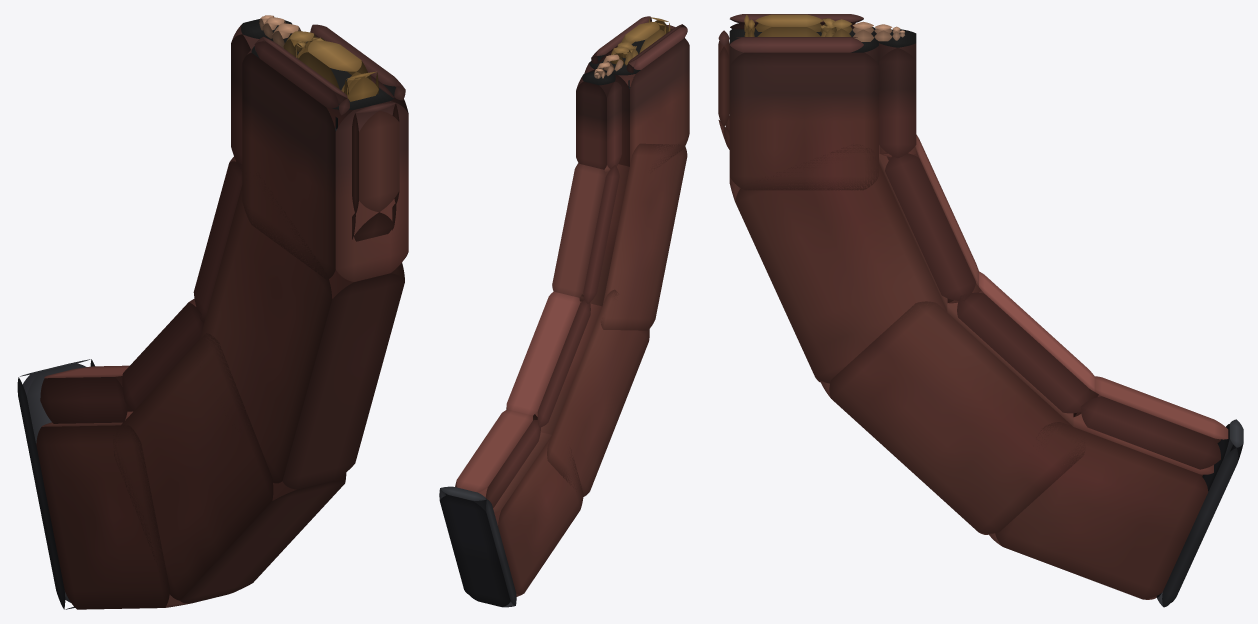
File: ak47_mag_extended.fbx
3 views of the same model, side by side, from view 1: azimuth 30°, elevation 25°; view 2: azimuth 150°, elevation 25°; view 3: azimuth 270°, elevation 25° (orthographic). The views are drawn at different scales.
Visible parts, largest first — view 1: cube_13, cube_14, cube_12, cube_15, cube_21, cube_19, cube_18, cube_20, cube_17, cube_24, cube_16, cube (+3 smaller); view 2: cube_13, cube_14, cube_15, cube_12, cube_17, cube_18, cube_20, cube_19, cube_16, cube_24, cube, cube_23; view 3: cube_14, cube_13, cube_15, cube_12, cube_18, cube_19, cube_17, cube_16, cube_20, cube_23, cube, cube_21 (+1 smaller).
Part boxes in pixels (x1,y1,x2,y2): cube_13: (197, 173, 404, 489); cube_14: (113, 333, 346, 603); cube_12: (242, 34, 408, 281); cube_15: (36, 411, 236, 609); cube_21: (352, 103, 399, 214); cube_19: (40, 365, 132, 423); cube_18: (122, 298, 203, 411); cube_20: (17, 359, 94, 609); cube_17: (193, 156, 242, 322); cube_24: (254, 36, 349, 115); cube_16: (231, 19, 291, 171); cube: (298, 40, 369, 92); cube_13: (582, 143, 687, 330); cube_14: (535, 289, 649, 496); cube_15: (478, 432, 583, 596); cube_12: (584, 38, 689, 171); cube_17: (552, 163, 619, 303); cube_18: (506, 291, 590, 427); cube_20: (439, 486, 516, 607); cube_19: (455, 409, 541, 508); cube_16: (576, 71, 621, 172); cube_24: (626, 24, 687, 72); cube: (621, 22, 665, 52); cube_23: (591, 16, 651, 63); cube_14: (820, 301, 1085, 534); cube_13: (729, 144, 947, 383); cube_15: (989, 414, 1213, 599); cube_12: (729, 27, 878, 190); cube_18: (948, 271, 1098, 417); cube_19: (1074, 376, 1228, 469); cube_17: (880, 134, 981, 303); cube_16: (879, 29, 916, 158); cube_20: (1156, 419, 1243, 607); cube_23: (730, 37, 863, 52); cube: (755, 14, 823, 36); cube_21: (718, 30, 729, 126).
Bounding box in the file's own units: 7.03 × 66.34 × 54.89.
2 materials, 2 textured.
